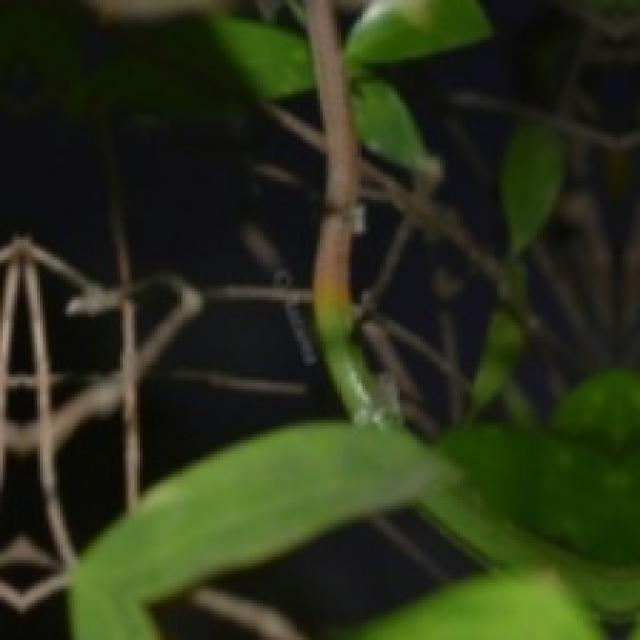red-tailed green ratsnake: (307, 0, 394, 427), (420, 485, 640, 619)
